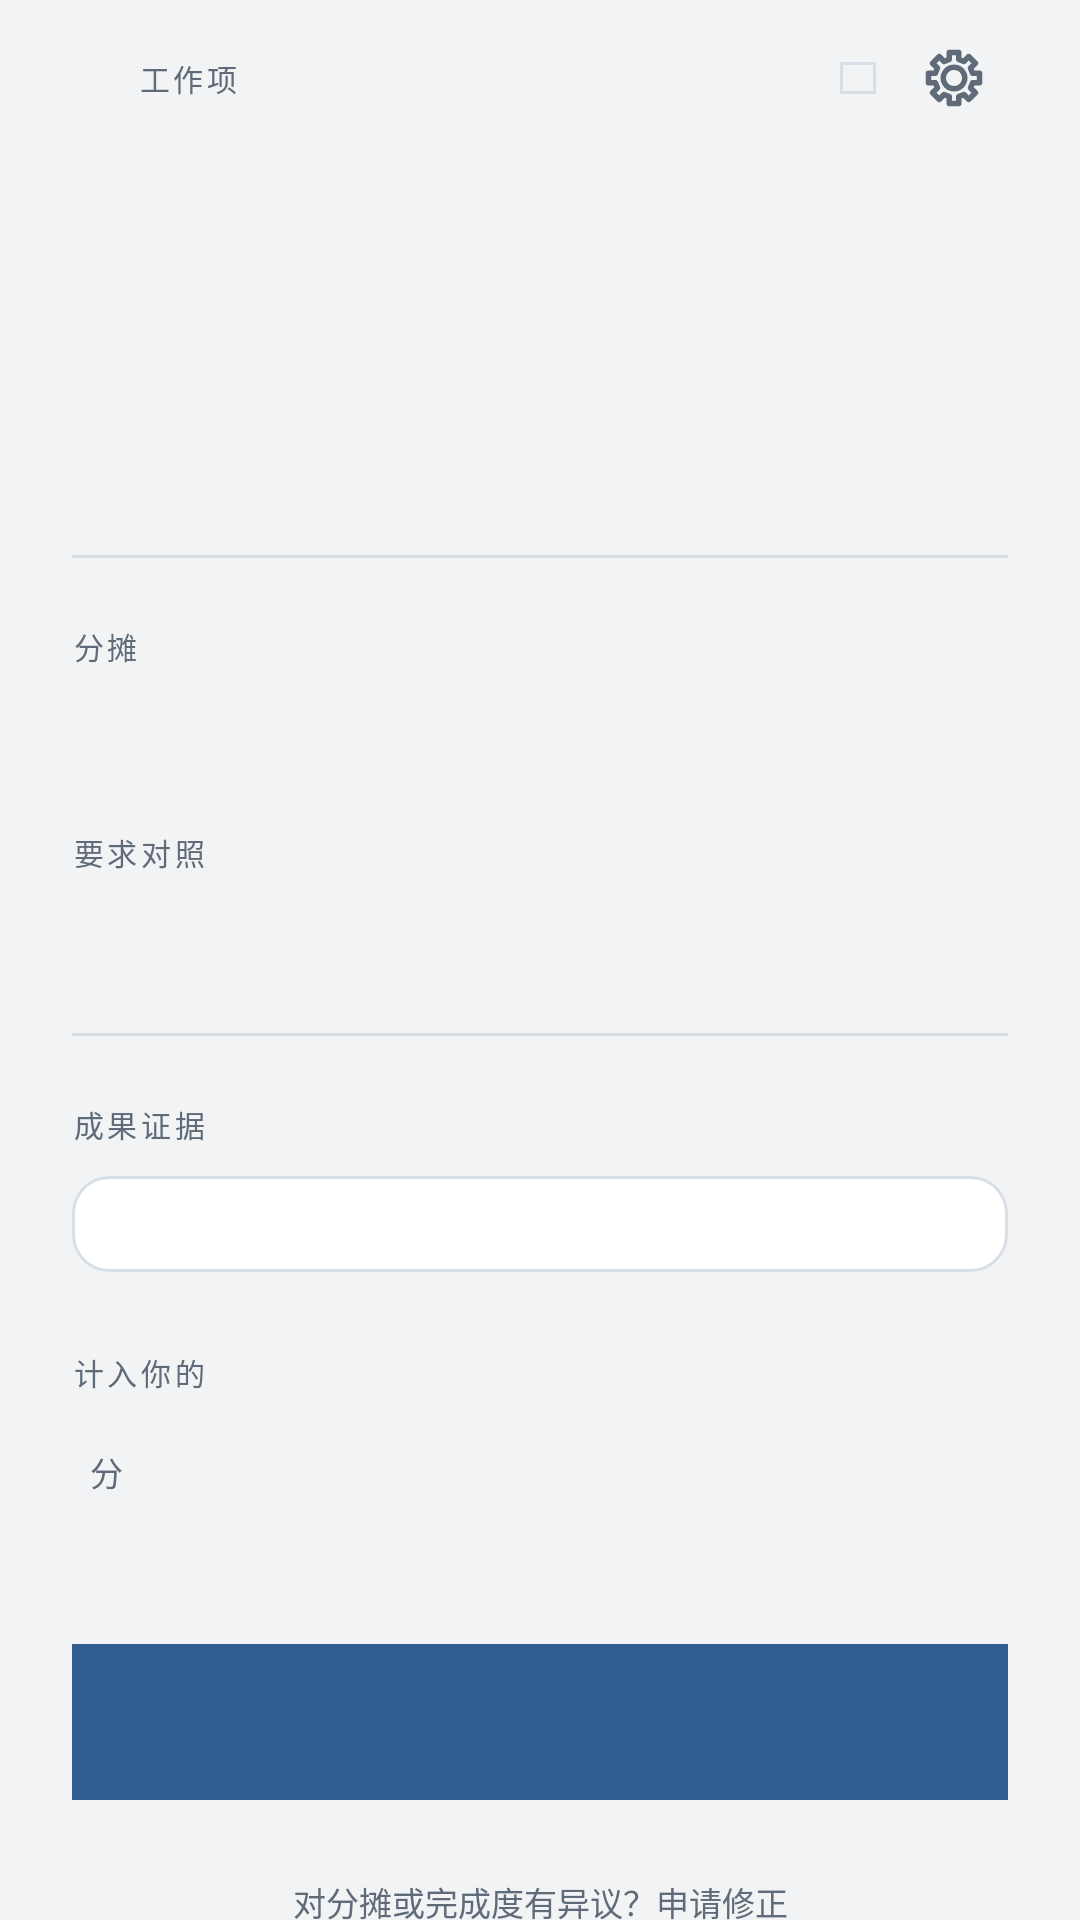

Locate icon controls on the screen. Image size 1080x1920, boxes as (x1, y1, x2, y2).
设置: (925, 49, 983, 107)
